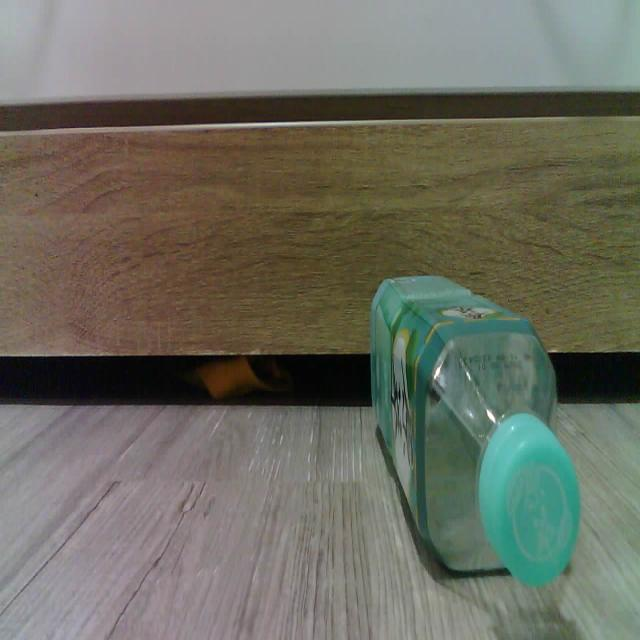bottle: (370, 276, 580, 586)
